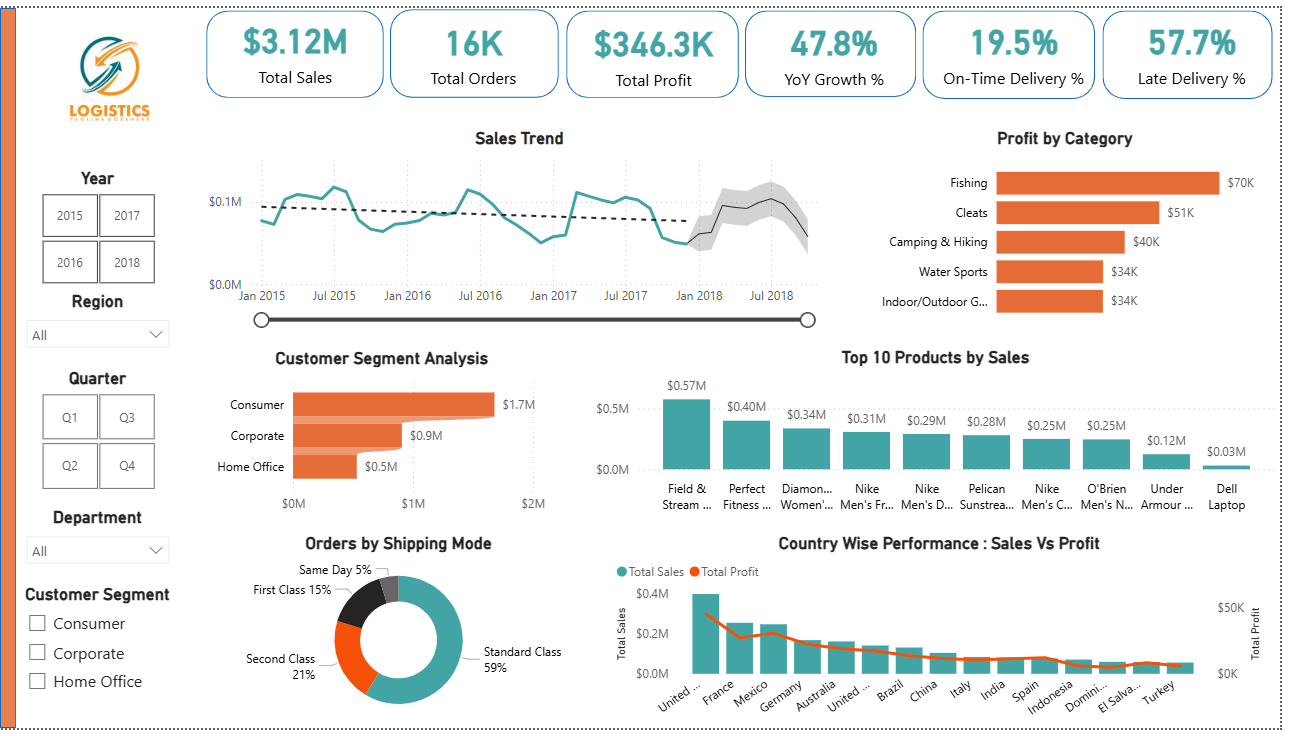

Layout of this report page (visuals, bound fields, positions):
{"tool":"powerbi","page":{"name":"Overview","canvas":[1280,720],"ordinal":0},"visuals":[{"type":"image","box":[16.2,0,187.5,141.2],"z":0},{"type":"shape","box":[390.4,1.3,168.7,88.5],"z":0,"group":"g5"},{"type":"group","id":"g1","title":"Group 1","box":[206.2,2.3,177.5,87.5],"z":0,"group":"g7"},{"type":"group","id":"g2","title":"Group 3","box":[566.6,2.3,172.5,87.5],"z":1000,"group":"g7"},{"type":"shape","box":[566.6,2.3,172.5,87.5],"z":1000,"group":"g2"},{"type":"lineChart","title":"Sales Trend","fields":{"Y":["Measure.Total Sales"],"Category":["DateTable.Date Hierarchy.StartofYear","DateTable.Date Hierarchy.StartofMonth"]},"box":[203.8,120,631.2,202.5],"z":1000},{"type":"group","id":"g3","title":"Group 4","box":[745.3,-0.2,171.2,89],"z":2000,"group":"g7"},{"type":"shape","box":[745.3,2.3,171.2,86.5],"z":2000,"group":"g3"},{"type":"donutChart","title":"Orders by Shipping Mode","fields":{"Category":["Order.shipping_mode"],"Y":["Measure.Total Orders"]},"box":[220,525,357.5,195],"z":2000},{"type":"group","id":"g4","title":"Group 5","box":[922.3,-0.2,172.6,91],"z":3000,"group":"g7"},{"type":"shape","box":[922.3,2.3,172.6,88.5],"z":3000,"group":"g4"},{"type":"clusteredBarChart","title":"Profit by Category","fields":{"Category":["Product.category_name"],"Y":["Measure.Total Profit"]},"box":[863.8,120,402.5,202.5],"z":3000},{"type":"group","id":"g5","title":"Group 2","box":[390.4,1.3,168.7,88.5],"z":4000,"group":"g7"},{"type":"shape","box":[1102.4,2.7,170,88.5],"z":4000,"group":"g6"},{"type":"barChart","title":"Customer Segment Analysis","fields":{"Category":["Customer.customer_segment"],"Y":["Measure.Total Sales"]},"box":[206.2,340,351.2,173.8],"z":4000},{"type":"group","id":"g6","title":"Group 6","box":[1102.4,0.2,170,91],"z":5000,"group":"g7"},{"type":"shape","box":[206.2,2.3,177.5,87.5],"z":5000,"group":"g1"},{"type":"clusteredColumnChart","title":"Top 10 Products by Sales","fields":{"Category":["Product.product_name"],"Y":["Measure.Total Sales"]},"box":[591.2,338.8,688.8,173.8],"z":5000},{"type":"shape","box":[0,0,16.2,720],"z":6000},{"type":"card","fields":{"Values":["Measure.Total Sales"]},"box":[219.5,4.2,150.9,76],"z":6000,"group":"g1"},{"type":"card","fields":{"Values":["Measure.Total Profit"]},"box":[577.3,5.8,152.7,76.7],"z":7000,"group":"g2"},{"type":"slicer","title":"Year","fields":{"Values":["DateTable.Year"]},"box":[16.2,160,162.5,122.5],"z":7000},{"type":"card","fields":{"Values":["Measure.Total Orders"]},"box":[402,5.7,144.5,76.2],"z":8000,"group":"g5"},{"type":"slicer","title":"Region","fields":{"Values":["Location.order_region"]},"box":[16.2,282.5,162.5,77.5],"z":8000},{"type":"card","fields":{"Values":["Measure.Late Delivery %"]},"box":[1112.4,0.2,158.8,85],"z":9000,"group":"g6"},{"type":"slicer","title":"Customer Segment","fields":{"Values":["Customer.customer_segment"]},"box":[16.2,576.2,162.5,126.2],"z":9000},{"type":"card","fields":{"Values":["Measure.On-Time Delivery %"]},"box":[936.1,-0.2,155,85],"z":10000,"group":"g4"},{"type":"lineClusteredColumnComboChart","title":"Country Wise Performance : Sales Vs Profit","fields":{"Y":["Measure.Total Sales"],"Y2":["Measure.Total Profit"],"Category":["Location.order_country"]},"box":[611.2,525,656.2,195],"z":10000},{"type":"card","fields":{"Values":["Measure.YoY Growth %"]},"box":[759.1,-0.2,151.2,87.5],"z":11000,"group":"g3"},{"type":"slicer","title":"Department","fields":{"Values":["Product.Department_name"]},"box":[16.2,498.8,162.5,77.5],"z":11000},{"type":"slicer","title":"Quarter","fields":{"Values":["DateTable.Quarter"]},"box":[16.2,360,162.5,127.5],"z":12000},{"type":"group","id":"g7","title":"Group 7","box":[206.2,-0.2,1066.2,91.5],"z":13000}]}

Visuals, with their boxes in screenshot pixels (x1, y1, x2, y2), scaled from the page's 1280x720 canvas onto the 1290x736 screenshot:
image: [left=16, top=0, right=205, bottom=144]
shape: [left=393, top=1, right=563, bottom=92]
"Group 1" group: [left=208, top=2, right=387, bottom=92]
"Group 3" group: [left=571, top=2, right=745, bottom=92]
shape: [left=571, top=2, right=745, bottom=92]
"Sales Trend" lineChart: [left=205, top=123, right=842, bottom=330]
"Group 4" group: [left=751, top=0, right=924, bottom=91]
shape: [left=751, top=2, right=924, bottom=91]
"Orders by Shipping Mode" donutChart: [left=222, top=537, right=582, bottom=735]
"Group 5" group: [left=930, top=0, right=1103, bottom=93]
shape: [left=930, top=2, right=1103, bottom=93]
"Profit by Category" clusteredBarChart: [left=871, top=123, right=1276, bottom=330]
"Group 2" group: [left=393, top=1, right=563, bottom=92]
shape: [left=1111, top=3, right=1282, bottom=93]
"Customer Segment Analysis" barChart: [left=208, top=348, right=562, bottom=525]
"Group 6" group: [left=1111, top=0, right=1282, bottom=93]
shape: [left=208, top=2, right=387, bottom=92]
"Top 10 Products by Sales" clusteredColumnChart: [left=596, top=346, right=1289, bottom=524]
shape: [left=0, top=0, right=16, bottom=735]
card - Measure.Total Sales: [left=221, top=4, right=373, bottom=82]
card - Measure.Total Profit: [left=582, top=6, right=736, bottom=84]
"Year" slicer: [left=16, top=164, right=180, bottom=289]
card - Measure.Total Orders: [left=405, top=6, right=551, bottom=84]
"Region" slicer: [left=16, top=289, right=180, bottom=368]
card - Measure.Late Delivery %: [left=1121, top=0, right=1281, bottom=87]
"Customer Segment" slicer: [left=16, top=589, right=180, bottom=718]
card - Measure.On-Time Delivery %: [left=943, top=0, right=1100, bottom=87]
"Country Wise Performance : Sales Vs Profit" lineClusteredColumnComboChart: [left=616, top=537, right=1277, bottom=735]
card - Measure.YoY Growth %: [left=765, top=0, right=917, bottom=89]
"Department" slicer: [left=16, top=510, right=180, bottom=589]
"Quarter" slicer: [left=16, top=368, right=180, bottom=498]
"Group 7" group: [left=208, top=0, right=1282, bottom=93]
